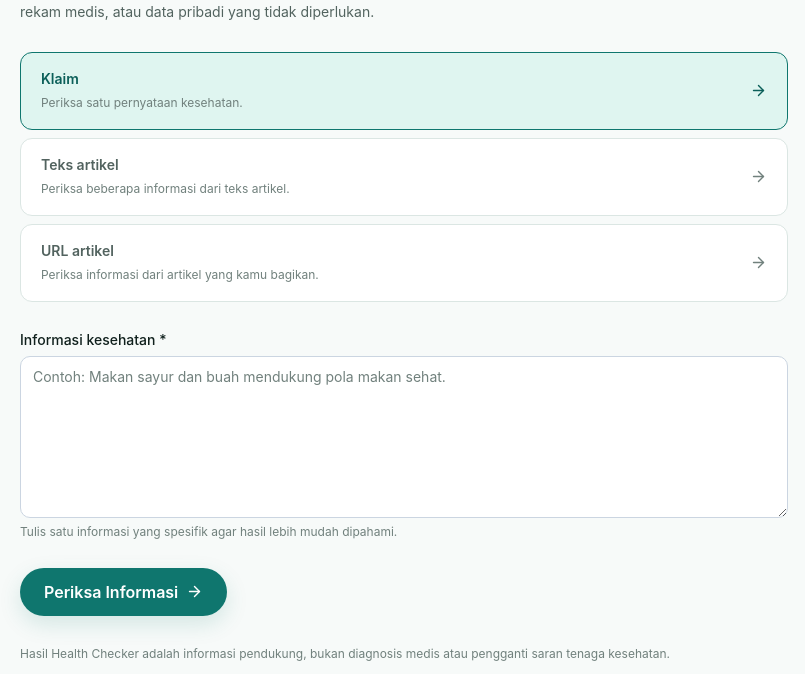
SEHATIN final frontend journeys › shows safe Health Checker error state
(page scrolled)
Type "Klaim kesehatan contoh yang cukup panjang." into the text box labelled "Informasi kesehatan".
click(404, 437); type("Klaim kesehatan contoh yang cukup panjang.")  # box 20,356 -> 788,518
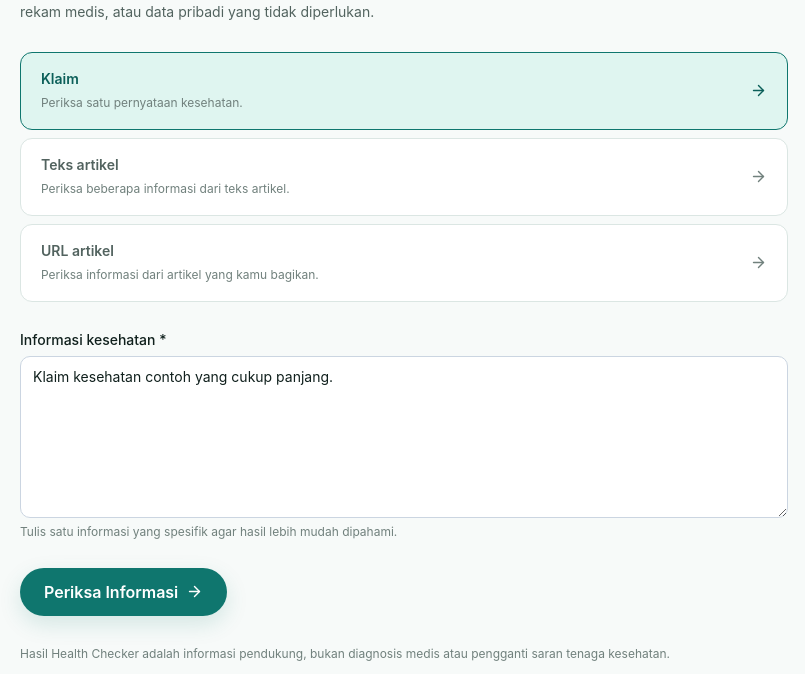
Click the button "Periksa Informasi".
click(124, 592)  # box 20,568 -> 227,616
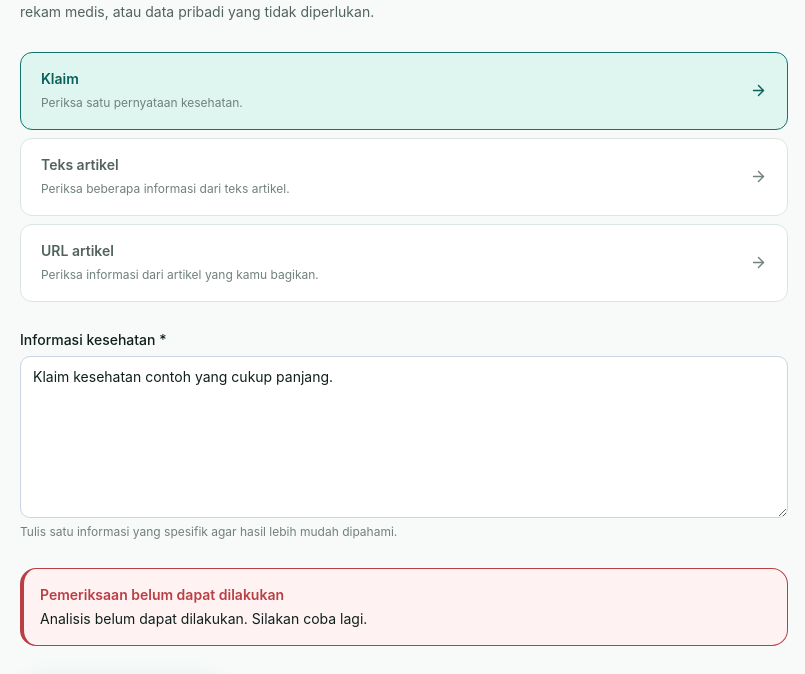
Expected: the text "Analisis belum dapat dilakukan. Silakan coba lagi." is shown, 40,610 -> 367,627
